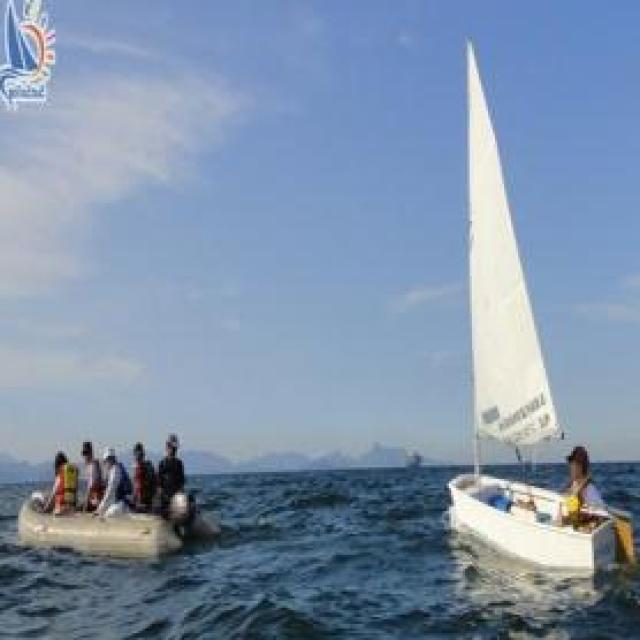sailboat: (432, 26, 632, 570)
